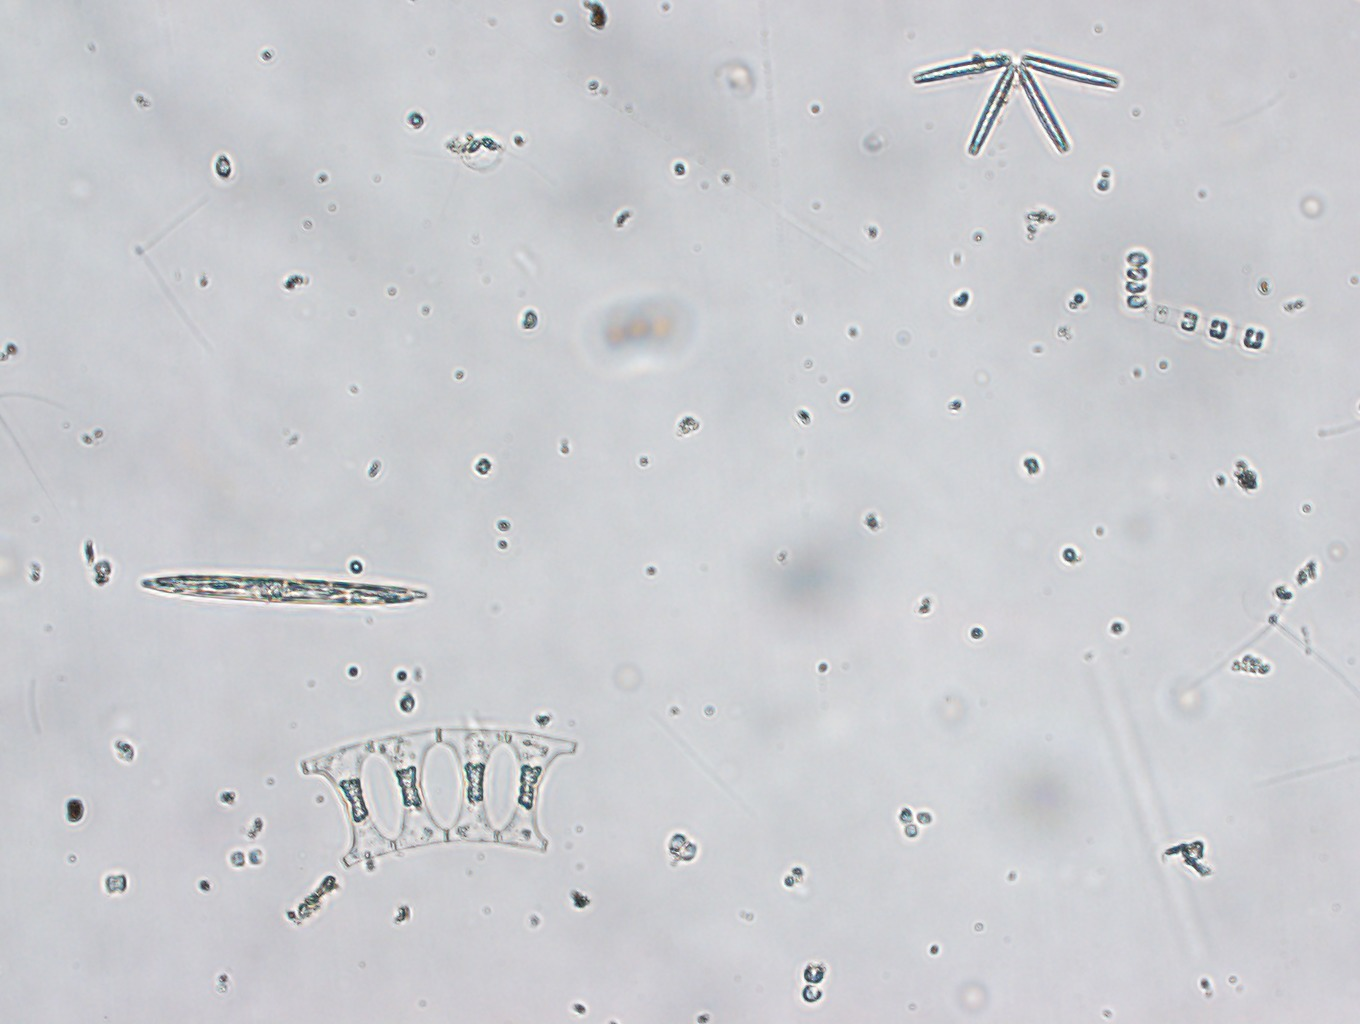eucampia: (301, 726, 576, 870)
navicula: (140, 573, 427, 606)
skeletonema: (1120, 248, 1270, 352)
thalassionema nitzschioides: (913, 53, 1120, 155)
